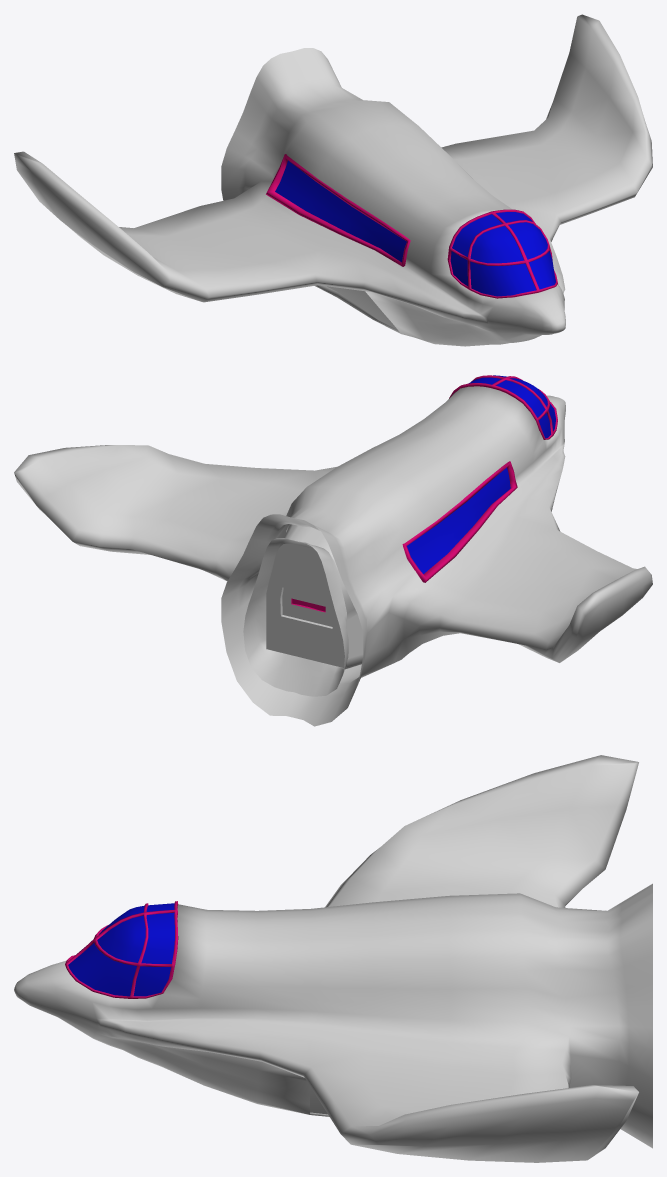
Rendered from motherShip.fbx.
3 views of the same model, one above another, from view 1: azimuth 30°, elevation 25°; view 2: azimuth 150°, elevation 25°; view 3: azimuth 270°, elevation 25° (orthographic). The views are drawn at different scales.
Parts seen in each view (by area): view 1: Body, Glass, SideGlass, ForceField; view 2: Body, SideGlass, Glass; view 3: Body, Glass.
Part boxes in pixels (x1,y1,x2,y2): Body: (14, 14, 652, 346); Glass: (447, 209, 557, 298); SideGlass: (266, 154, 410, 266); ForceField: (326, 286, 397, 329); Body: (14, 386, 652, 726); SideGlass: (402, 461, 517, 582); Glass: (449, 375, 557, 439); Body: (14, 755, 652, 1162); Glass: (65, 901, 178, 998).
Bounding box in the file's own units: 36.24 × 12.35 × 29.46.
